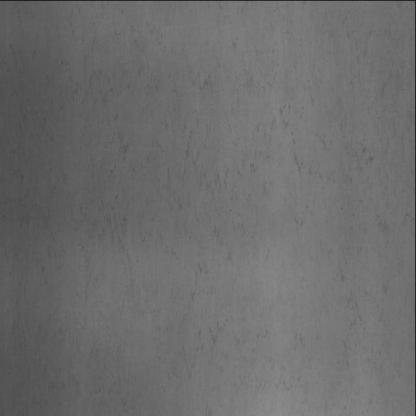silk_spot: (91, 65, 332, 386)
